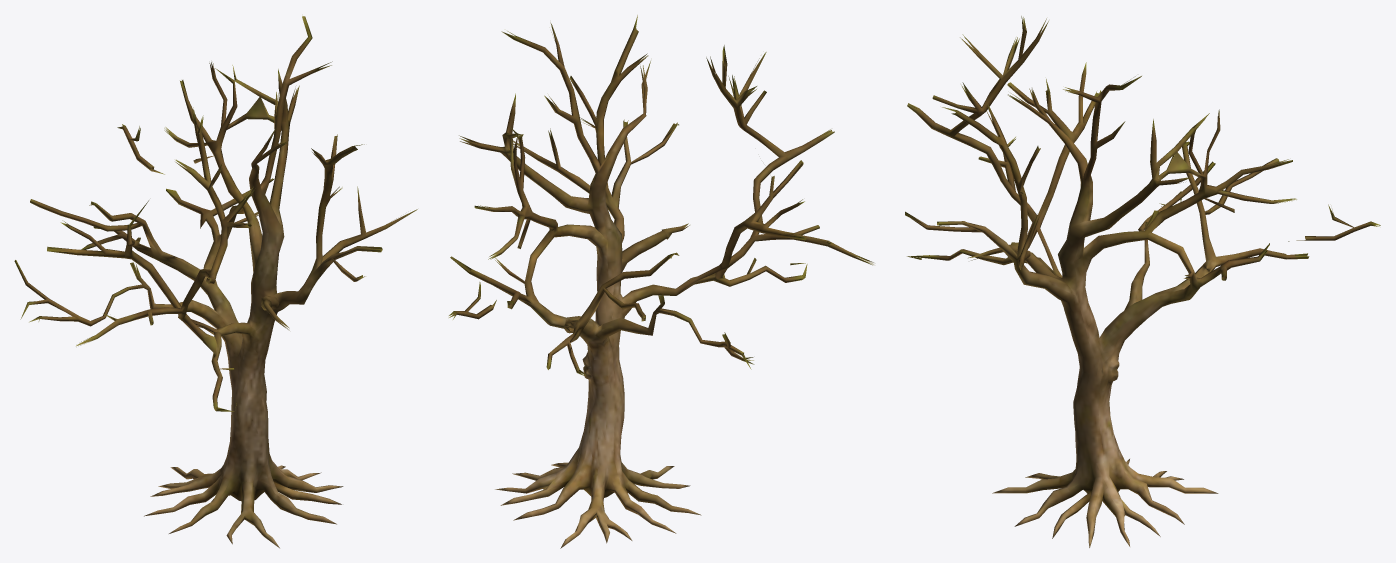
The model's file is trunk-only.glb.
3 views of the same model, side by side, from view 1: azimuth 30°, elevation 25°; view 2: azimuth 150°, elevation 25°; view 3: azimuth 270°, elevation 25° (orthographic). The views are drawn at different scales.
Visible parts, largest first — view 1: RetainedTripoBranches; view 2: RetainedTripoBranches; view 3: RetainedTripoBranches.
Boxes of the visible parts, x1=… form: RetainedTripoBranches: x1=14, y1=16, x2=417, y2=548; RetainedTripoBranches: x1=449, y1=15, x2=873, y2=548; RetainedTripoBranches: x1=905, y1=16, x2=1380, y2=547.
Size of the model in its own units: 0.725 by 0.899 by 0.8302.
1 material, 1 textured.
